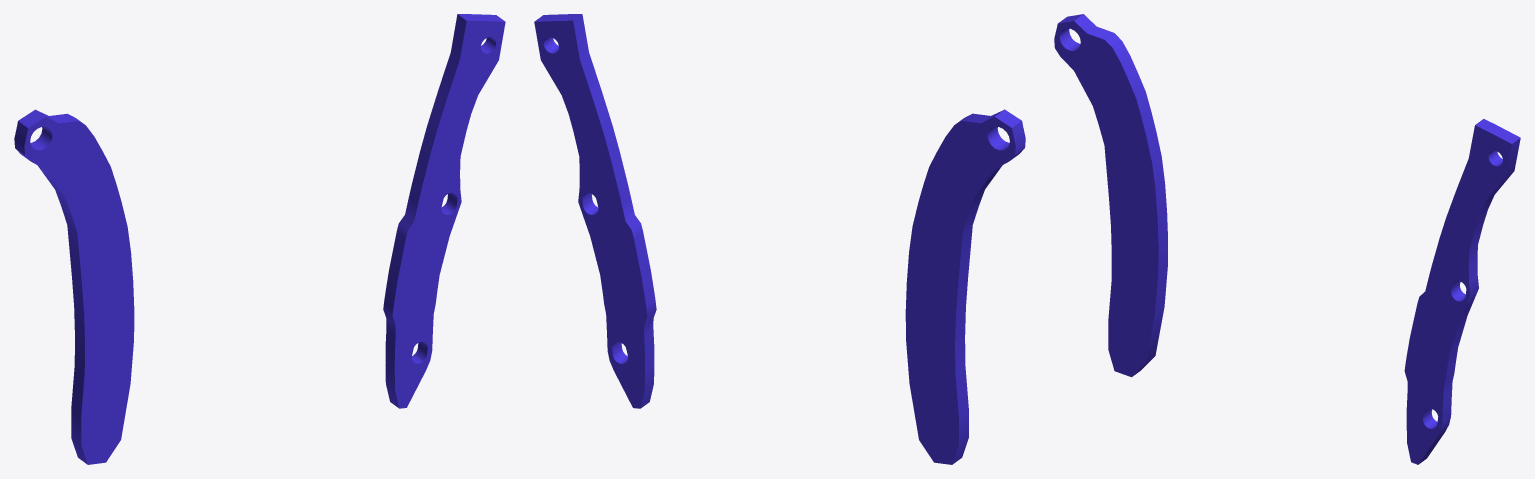
Rendered from UdLR.fbx.
3 views of the same model, side by side, from view 1: azimuth 30°, elevation 25°; view 2: azimuth 150°, elevation 25°; view 3: azimuth 330°, elevation 25° (orthographic). The views are drawn at different scales.
Parts seen in each view (by area): view 1: udL, UdR; view 2: udL, UdR; view 3: udL, UdR.
Part boxes in pixels (bbox=[...]): udL: bbox=[14, 109, 134, 464]; UdR: bbox=[383, 14, 505, 408]; udL: bbox=[905, 109, 1025, 464]; UdR: bbox=[534, 14, 656, 408]; udL: bbox=[1054, 14, 1167, 377]; UdR: bbox=[1404, 119, 1520, 464].
Bounding box in the file's own units: 20.08 × 15.12 × 0.7261.
